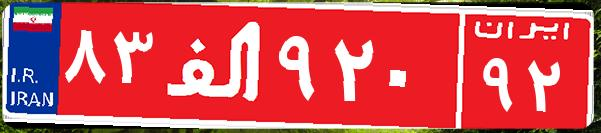0: (385, 28, 445, 110)
2: (330, 28, 385, 110), (525, 38, 570, 115)
3: (110, 28, 158, 105)
8: (57, 26, 110, 107)
9: (273, 28, 330, 110), (475, 38, 525, 113)
الف: (158, 15, 273, 115)
